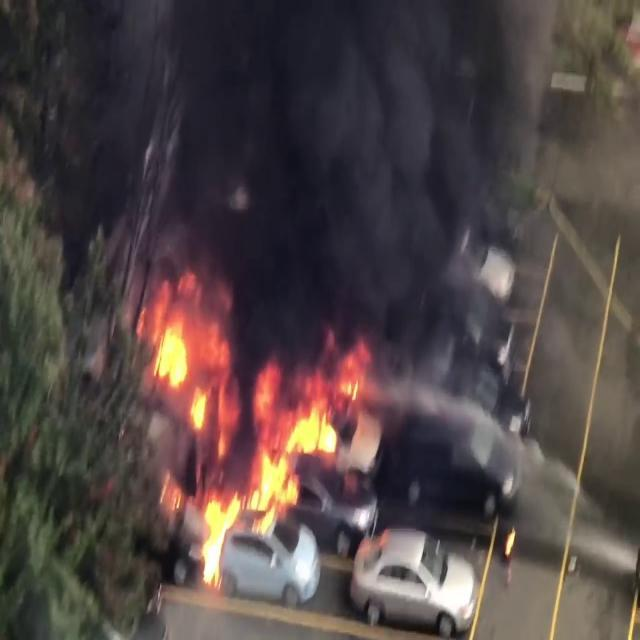Fire: (150, 296, 375, 574)
Smoke: (49, 1, 552, 488)
